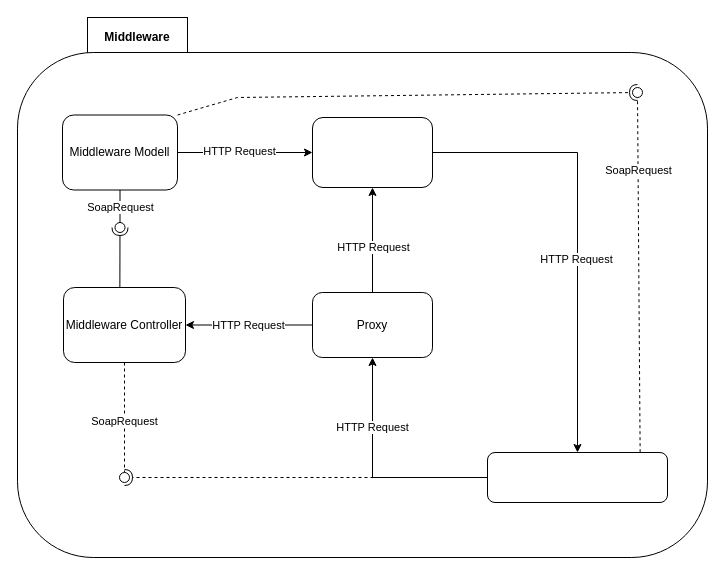
This 725x575 diagram has some shape labels left out. Here are the shapes that lost their labels. From the top down, the centre of each, then its label:
pixel 372 152: Broker
pixel 577 477: Middleware View
